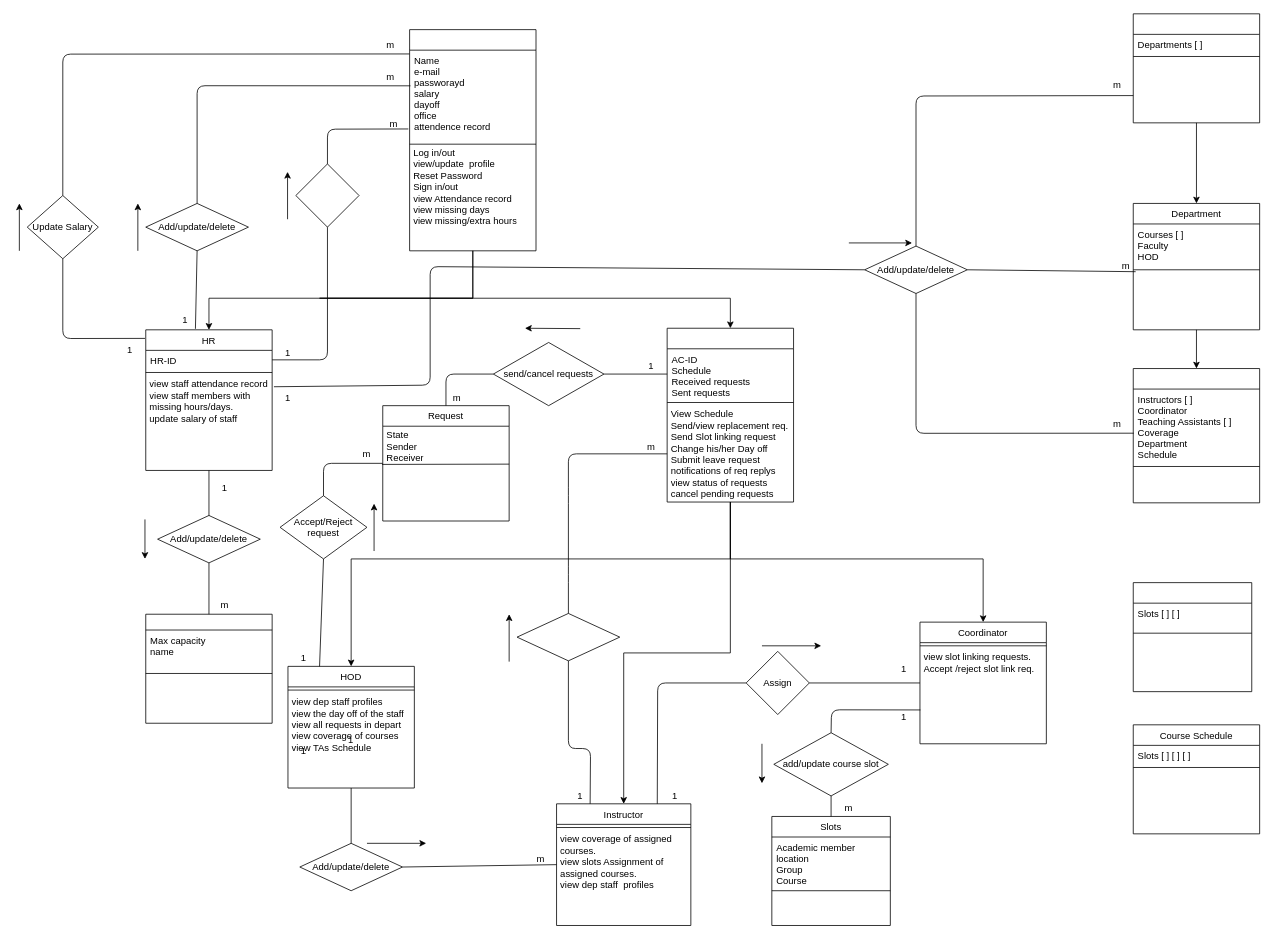
Some shapes in this 1273 by 939 pixel diagram are drawn without their labels. Here are the shapes that lost their labels. From the top down, the box of each, then its label:
(1132, 13, 1260, 123): Faculty
(409, 29, 536, 251): staff
(295, 163, 359, 227): sign in/out
(666, 327, 794, 502): Academic Member
(1132, 368, 1260, 503): Course
(516, 613, 620, 661): Assign/update/delete
(1132, 582, 1252, 692): AC/Location Schedule
(145, 613, 272, 723): Location
